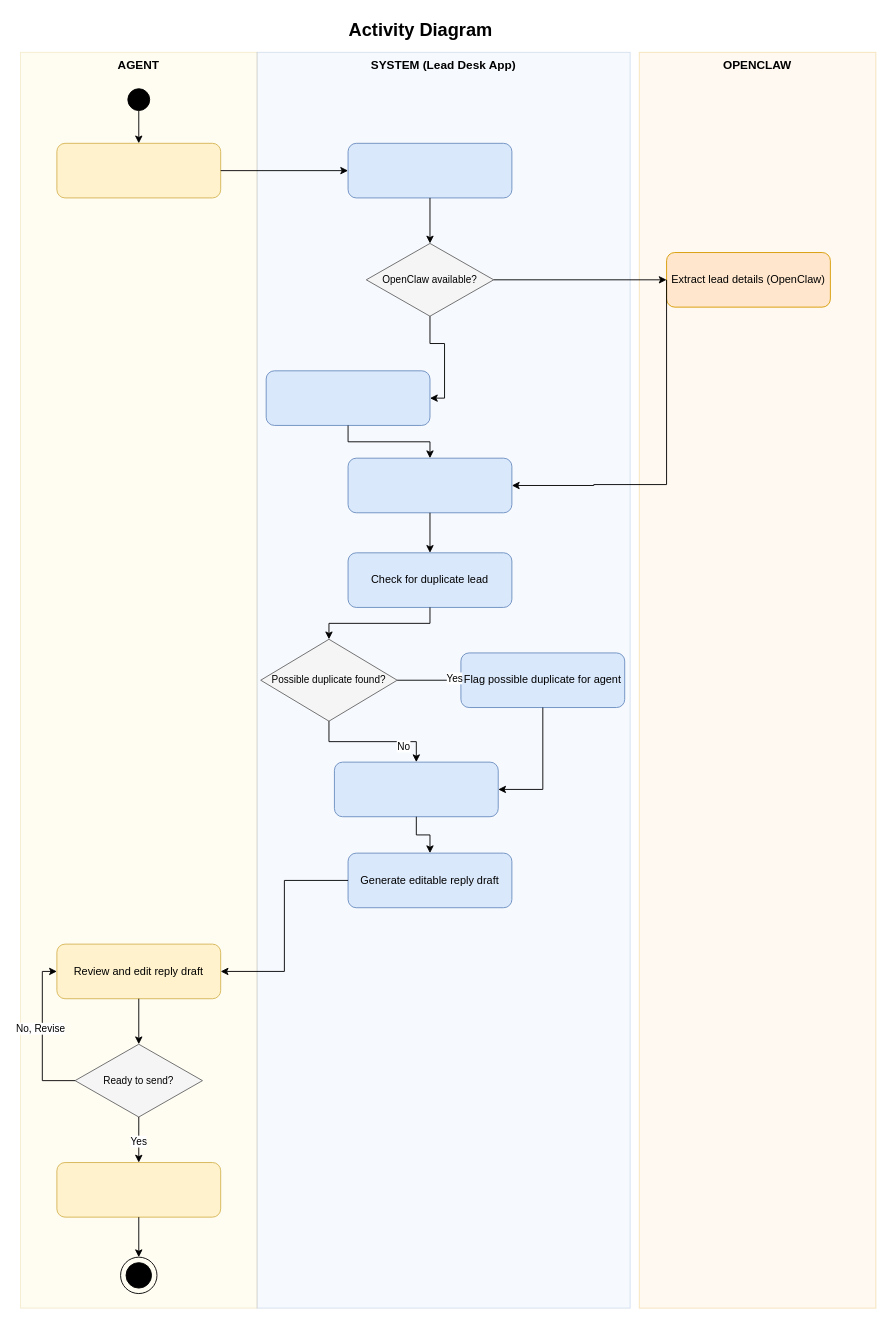
Some shapes in this 892 by 1324 pixel diagram are drawn without their labels. Each missing label, with the centre of its shape:
"Apply fallback rule-based template" belongs at [347,397].
"Match properties against lead criteria" belongs at [416,789].
"Parse raw enquiry text" belongs at [429,170].
"Paste / type customer enquiry" belongs at [138,170].
"Send approved reply" belongs at [138,1189].
"Validate fields & flag missing information" belongs at [429,485].
